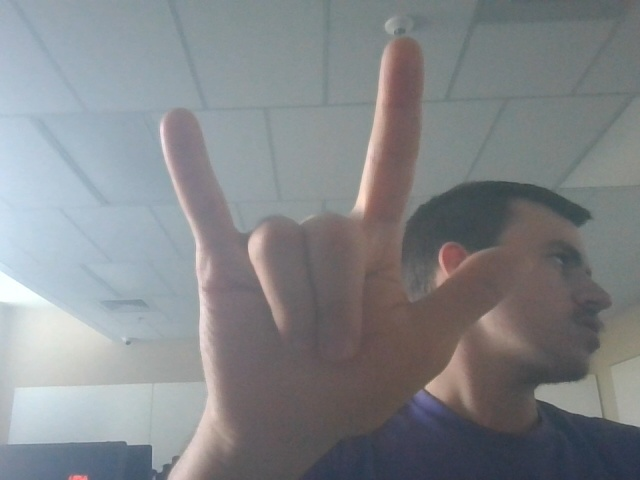iloveyou: (139, 25, 541, 462)
